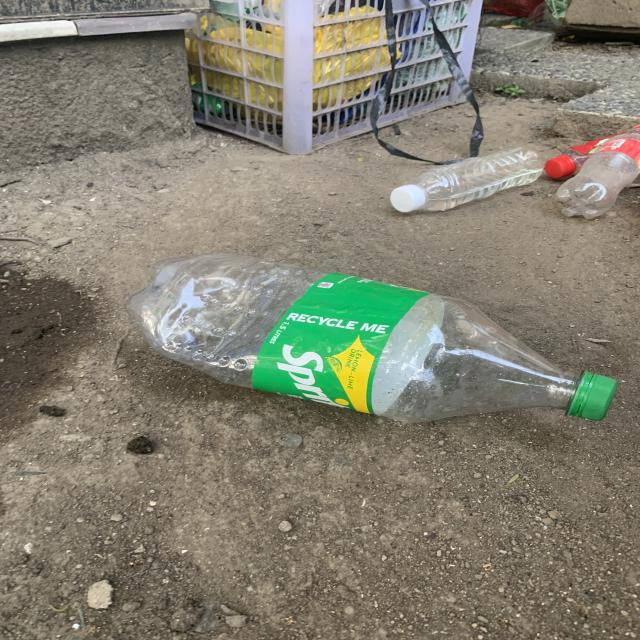Bottle: (126, 254, 617, 421)
